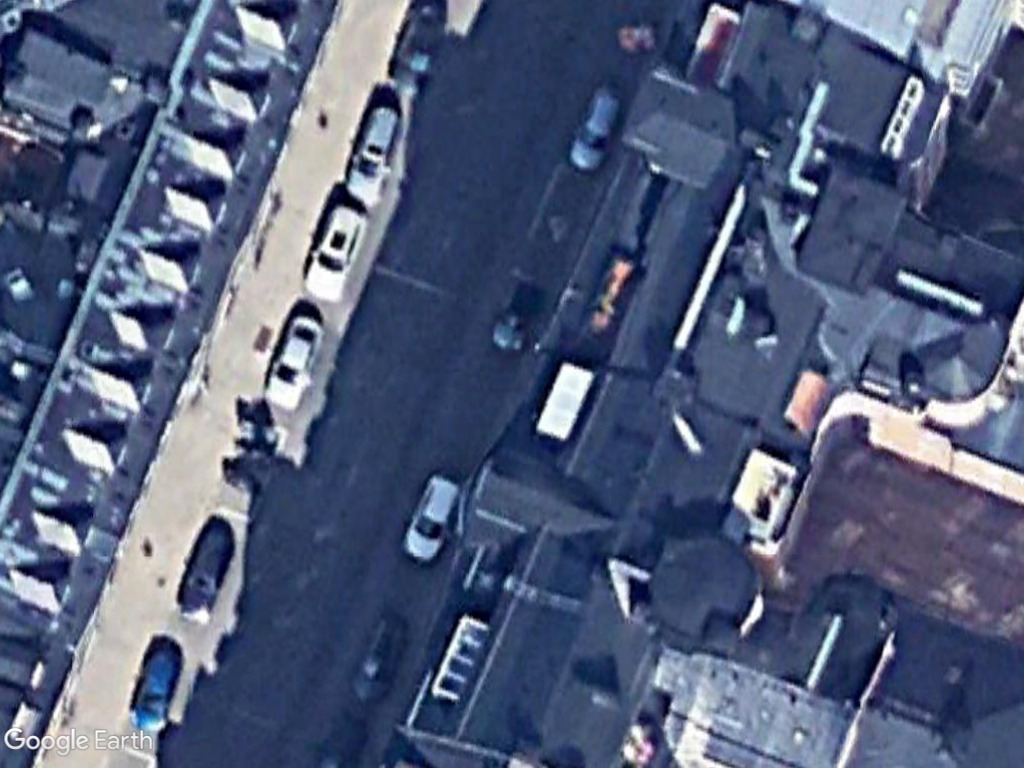car: (294, 194, 372, 310), (256, 305, 331, 416), (342, 97, 408, 210), (172, 518, 239, 629), (398, 464, 464, 565), (563, 78, 626, 176), (129, 637, 180, 742)
